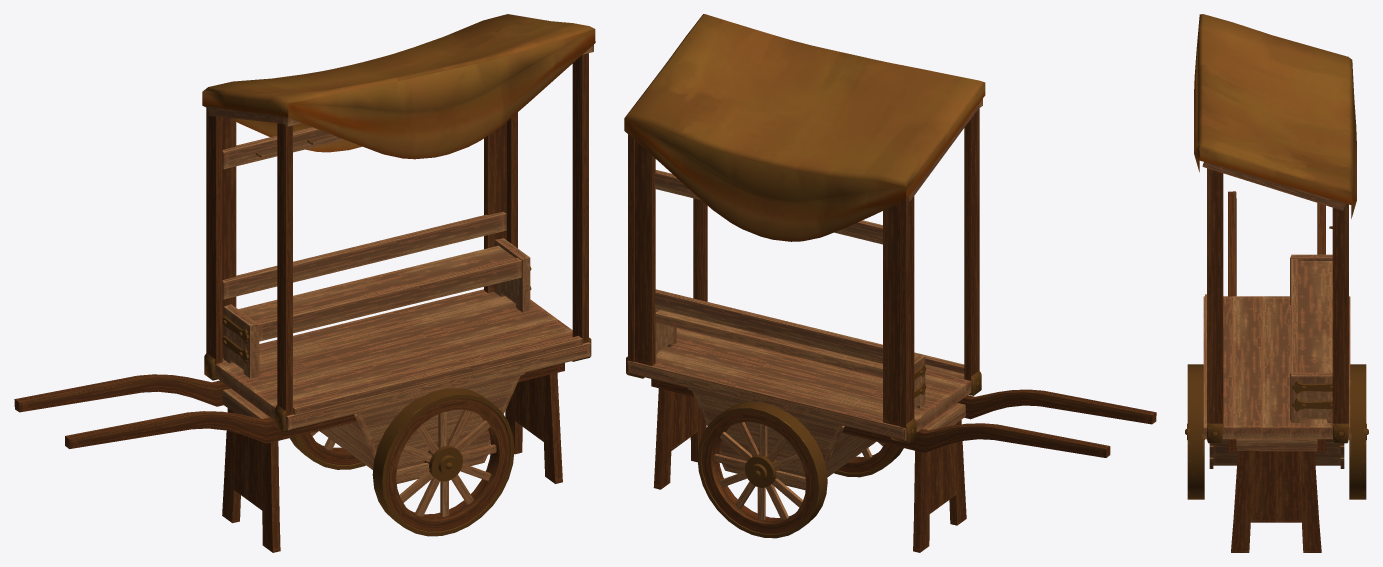
Rendered from stall_cart_empty.glb.
3 views of the same model, side by side, from view 1: azimuth 30°, elevation 25°; view 2: azimuth 150°, elevation 25°; view 3: azimuth 270°, elevation 25° (orthographic). The views are drawn at different scales.
Visible parts, largest first — view 1: Stall_Cart_Empty; view 2: Stall_Cart_Empty; view 3: Stall_Cart_Empty.
Boxes of the visible parts, box(x1,y1,x2,y2) form: Stall_Cart_Empty: box(14, 14, 595, 552); Stall_Cart_Empty: box(624, 14, 1156, 552); Stall_Cart_Empty: box(1185, 14, 1368, 552).
Size of the model in its own units: 3.02 by 2.63 by 1.06.
3 materials, 3 textured.
